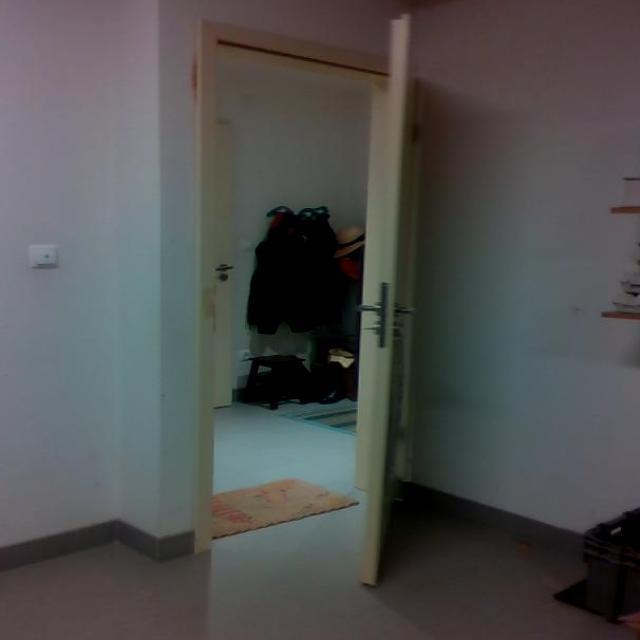door: (332, 15, 436, 582)
